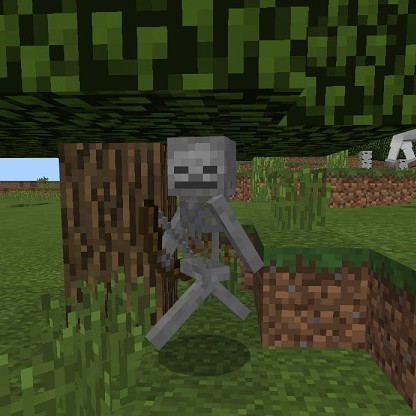skeleton: (149, 127, 260, 248)
